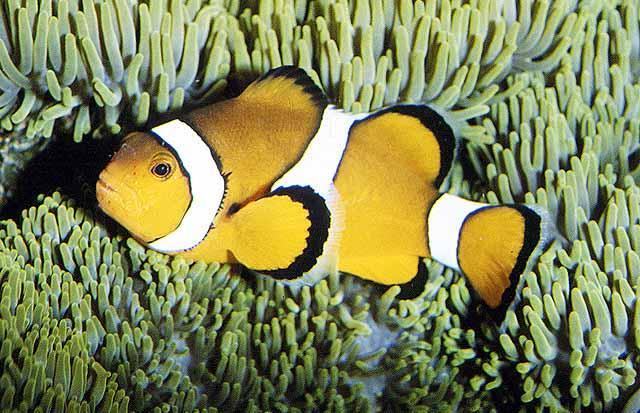Mulut: (77, 156, 143, 224)
Sirip Anal: (354, 252, 438, 308)
Sirip Dada: (215, 175, 349, 301)
Sirip Ekor: (450, 170, 562, 351)
Sirip Punggung: (232, 48, 462, 194)
